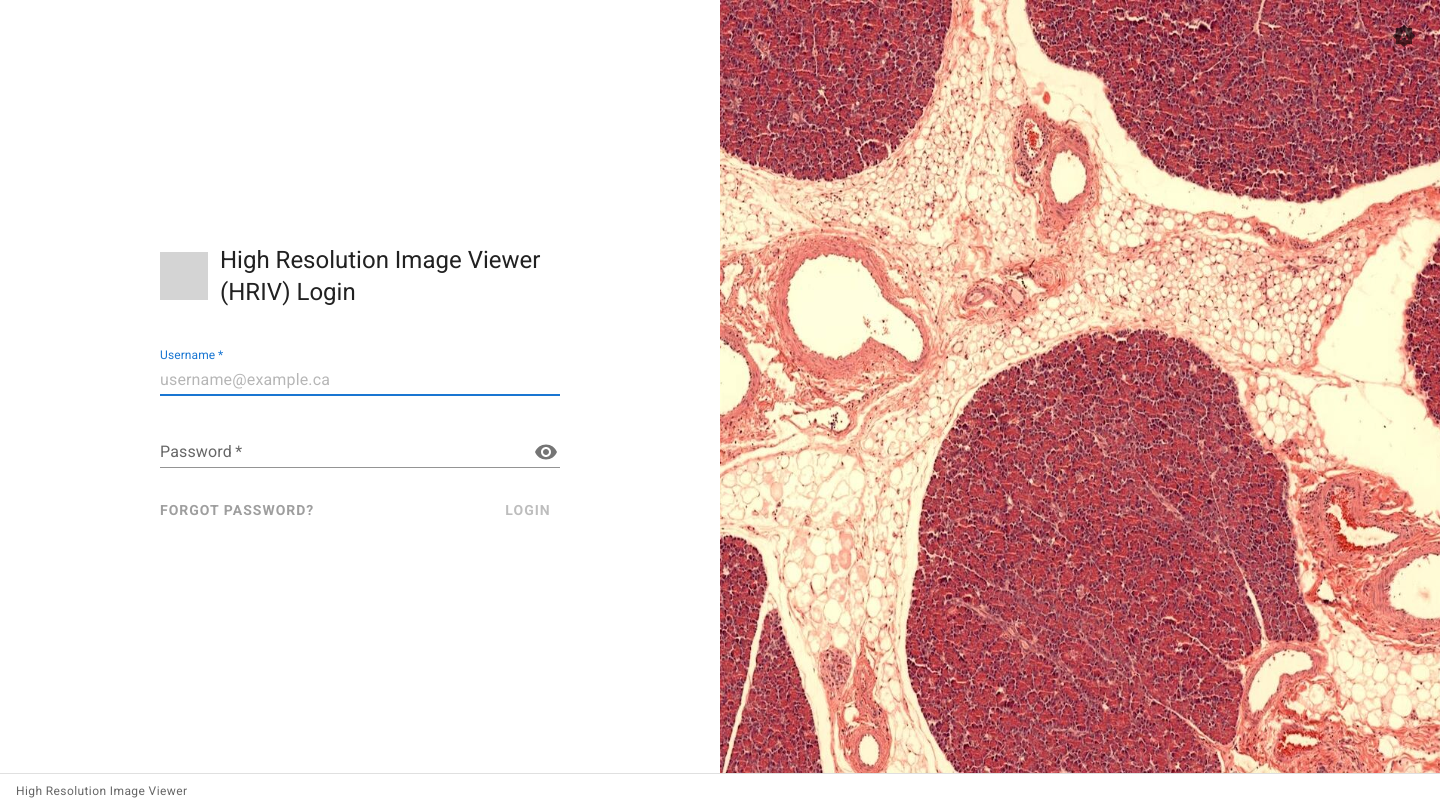
it: LoginScreen › local form submission › shows a disabled-account message when login returns 403
Type "inactive@example.ca" into the field with placeholder "username@example.ca" at (360, 380), box [160,364,560,396]
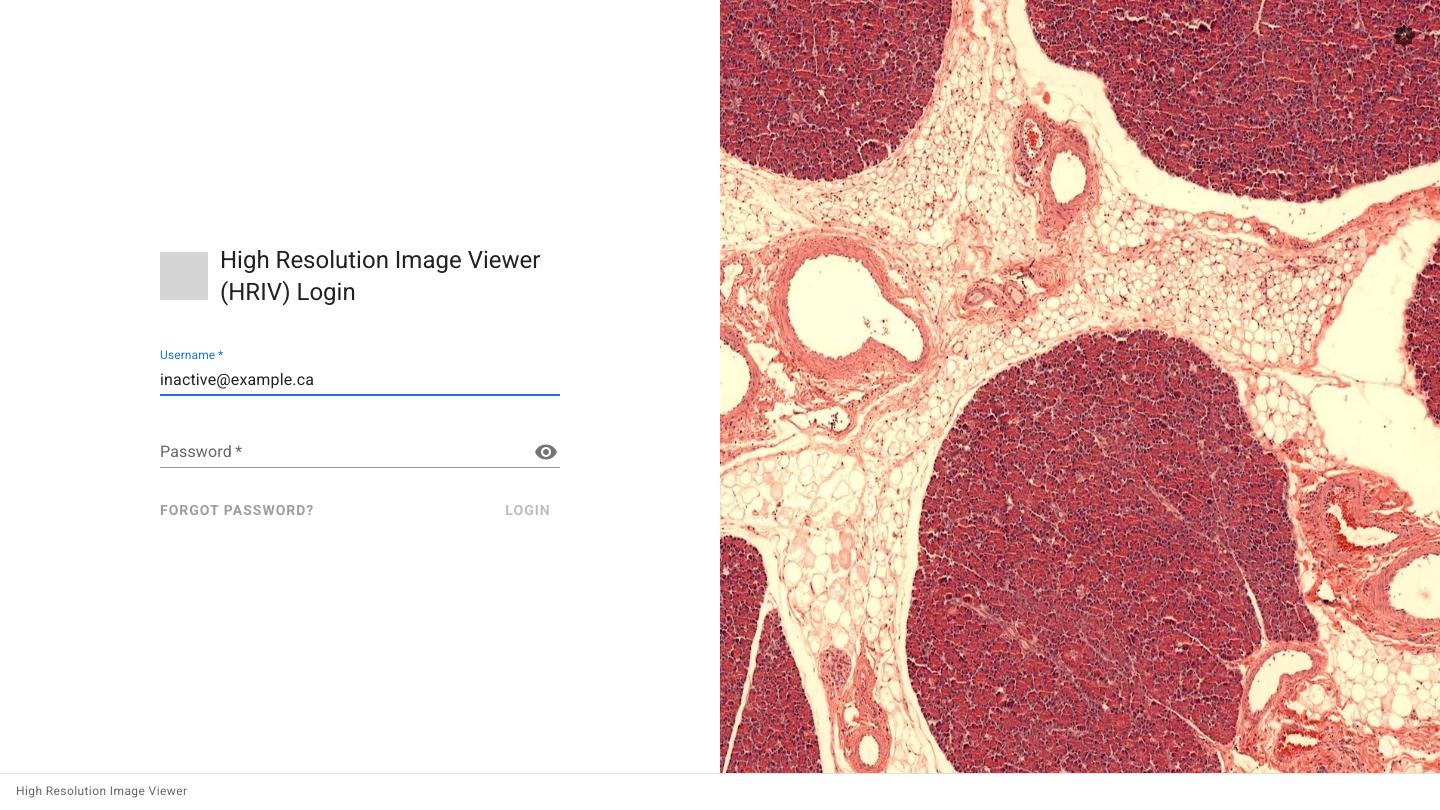
Type "password" into the password field with placeholder "Password" at (340, 452), box [160,436,521,468]
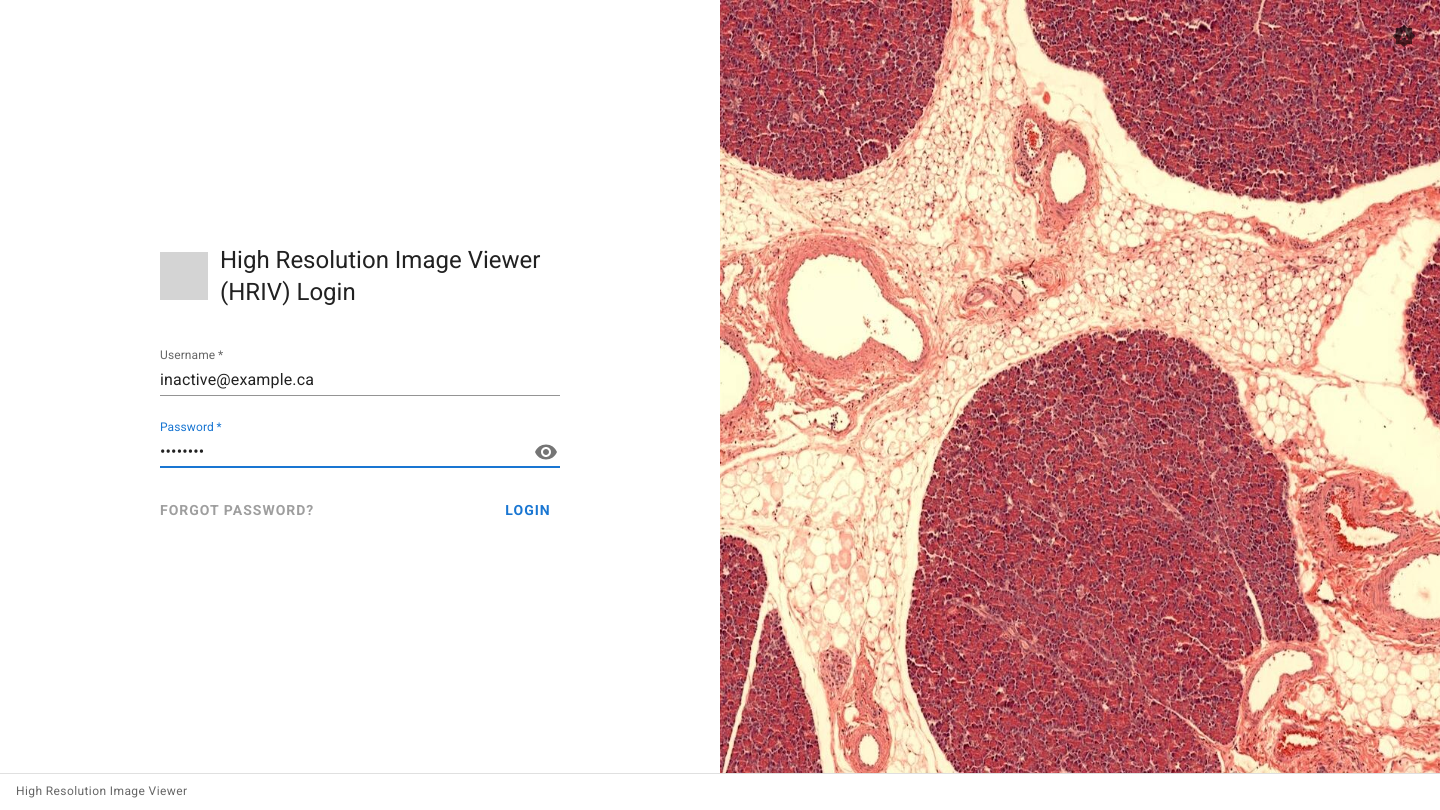
Click the button "LOGIN" at (528, 511), box [496,492,560,529]
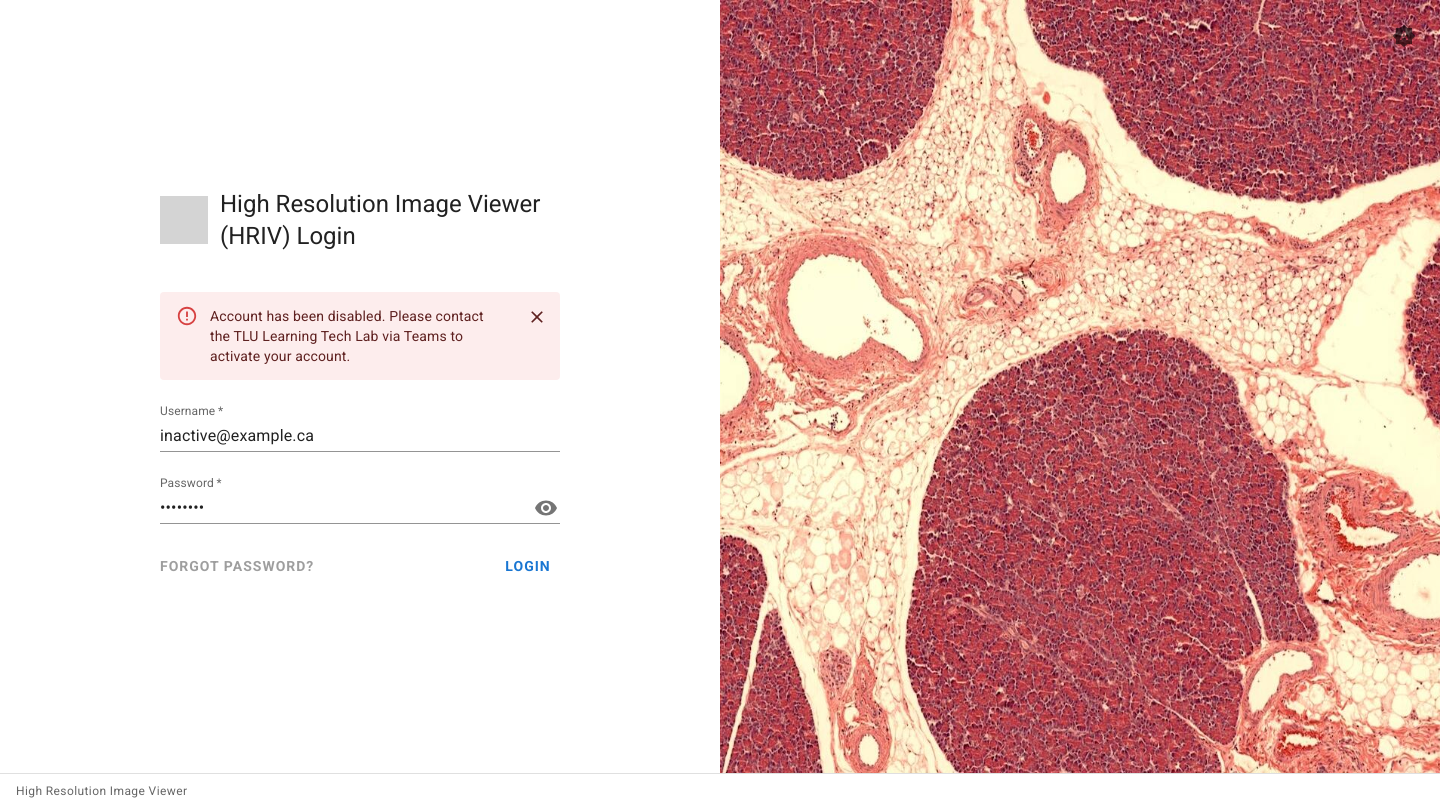
Result: the text "Account has been disabled" is shown at [210,308,484,364]
